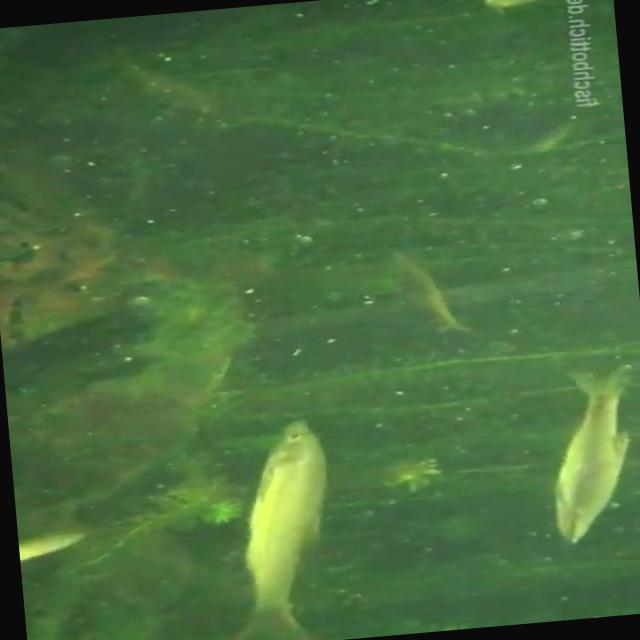Cakil Baligi: (193, 414, 345, 640), (535, 353, 640, 544)
